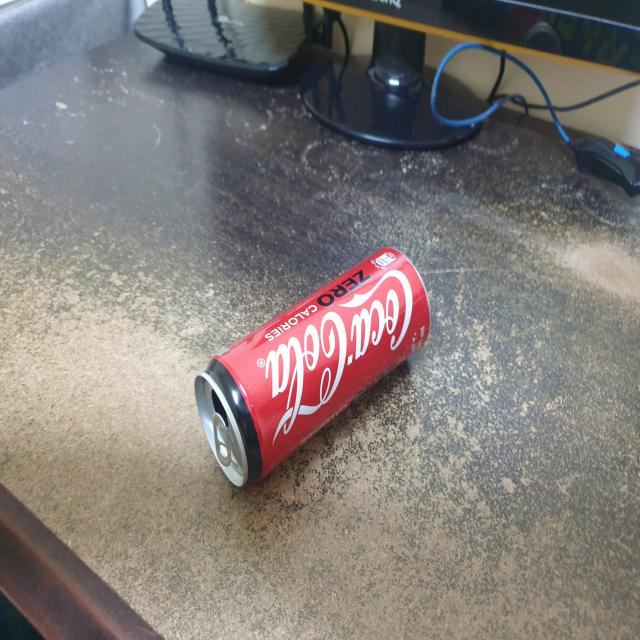non-organic waste: (184, 234, 436, 508)
